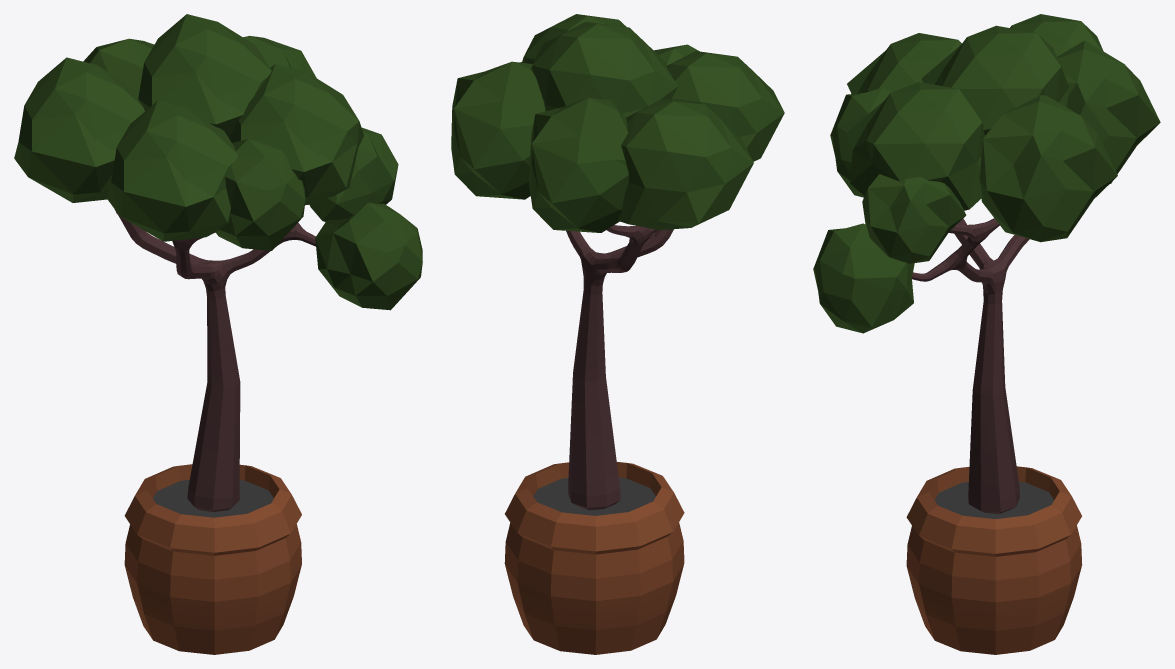
The model's file is Tree_7.glb.
The picture shows the model from 3 angles, left to right: view 1: azimuth 30°, elevation 25°; view 2: azimuth 150°, elevation 25°; view 3: azimuth 270°, elevation 25°; orthographic projection. The views are drawn at different scales.
Visible parts, largest first — view 1: Tree 7; view 2: Tree 7; view 3: Tree 7.
Part boxes in pixels (x1=…): Tree 7: x1=14, y1=14, x2=422, y2=654; Tree 7: x1=451, y1=14, x2=784, y2=654; Tree 7: x1=813, y1=14, x2=1160, y2=654.
Bounding box in the file's own units: 2.28 × 4.23 × 2.26.
